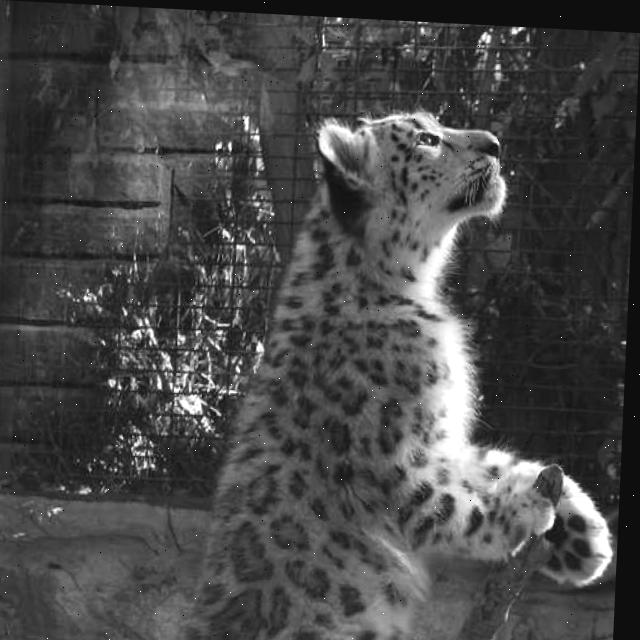Leopard: (176, 97, 632, 640)
